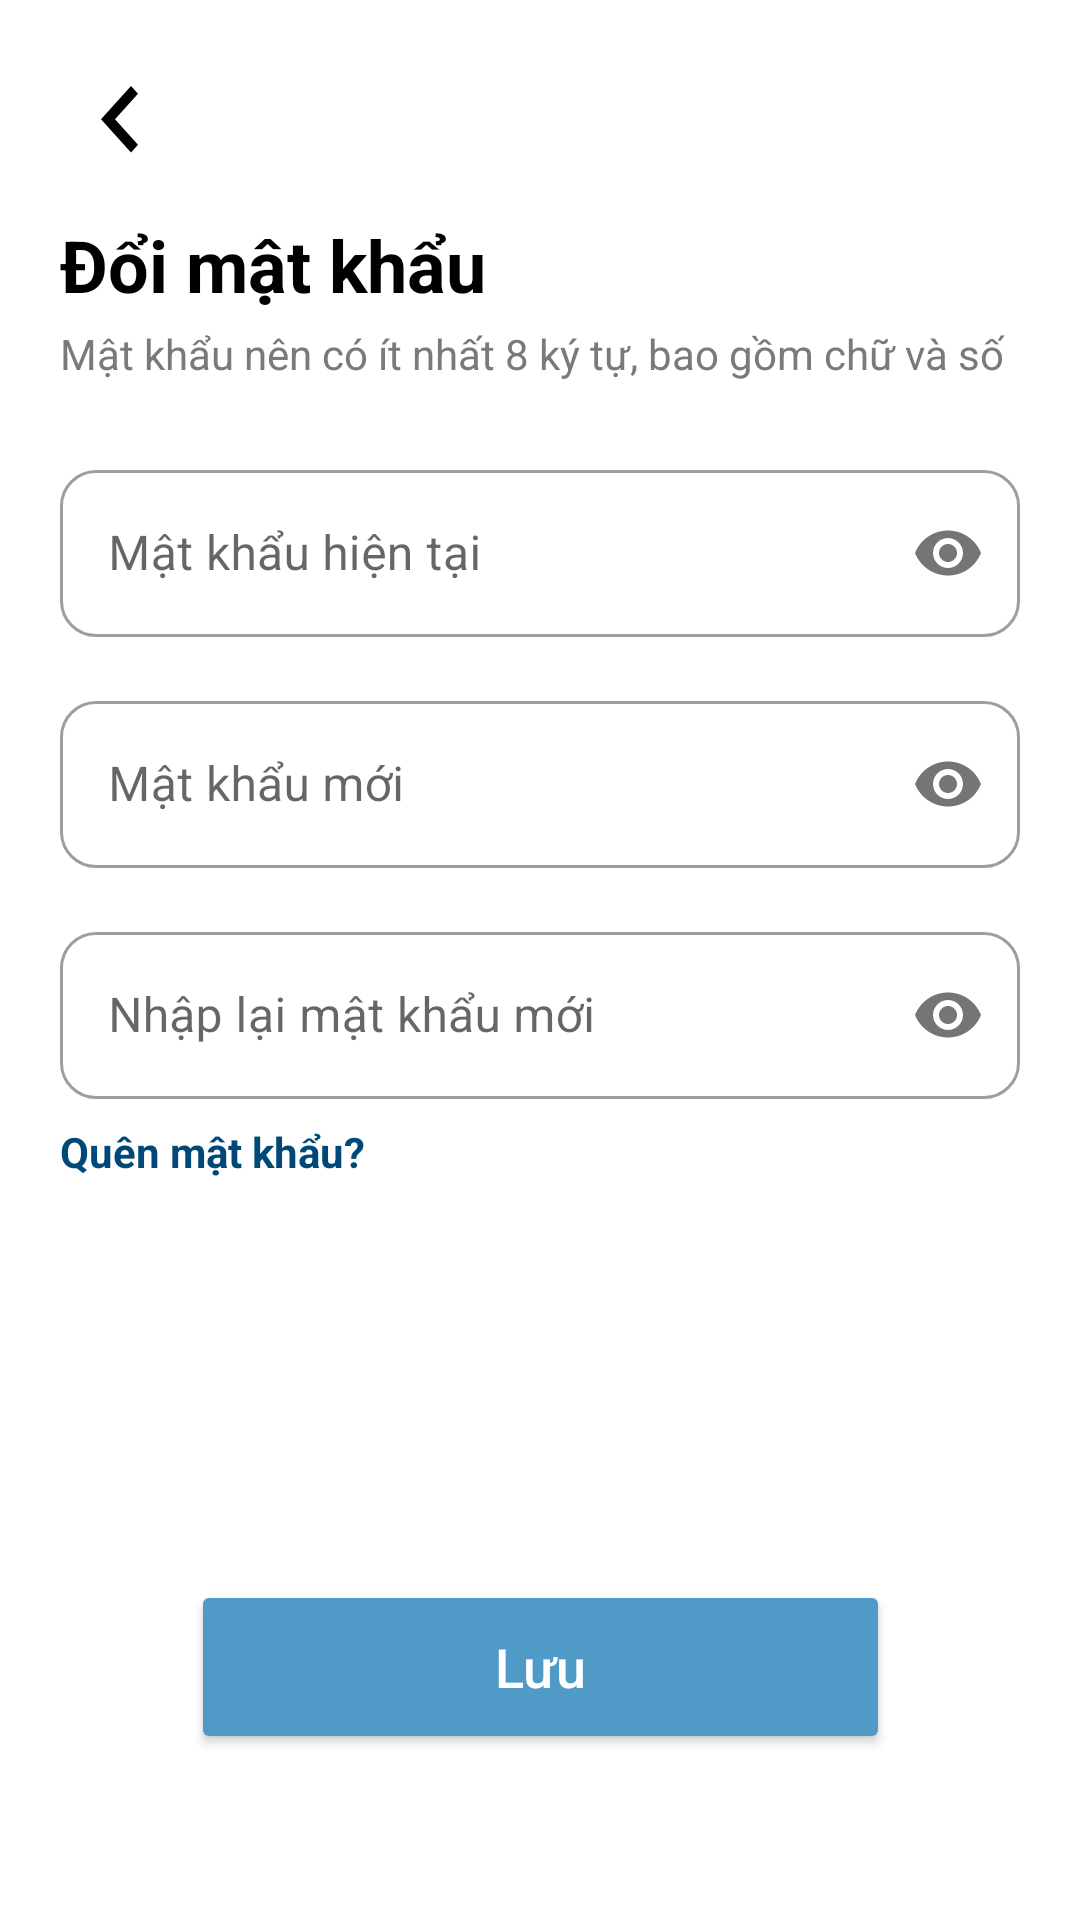

Icons on this 1080 × 1920 Android screen, each with the point to tap as [x,y]:
arrow back: [119,119]
